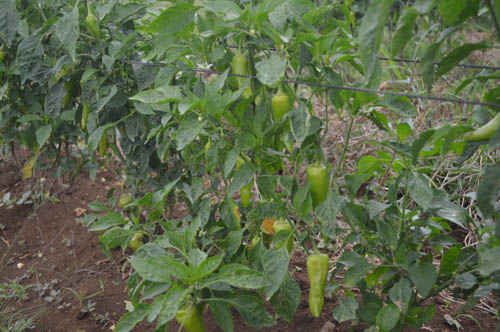ChiliPepper: (306, 252, 327, 315), (305, 163, 330, 211), (228, 54, 251, 90), (165, 306, 202, 326), (268, 95, 291, 127)
